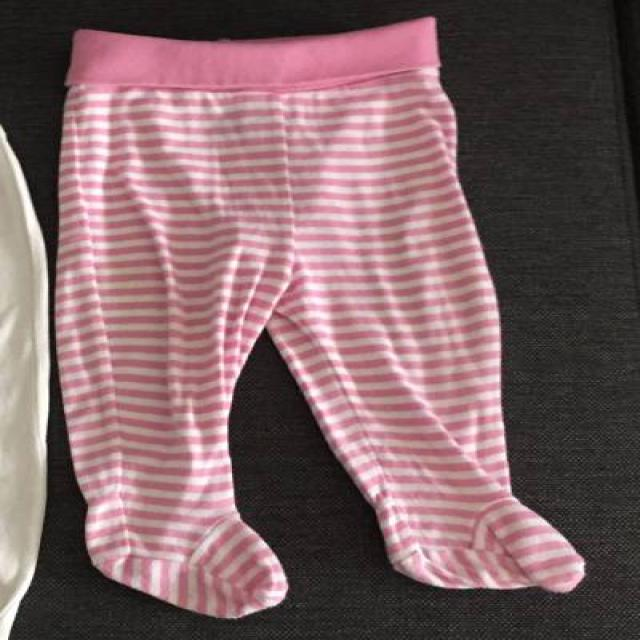Clothes -Biodegradable-: (55, 17, 589, 619)
